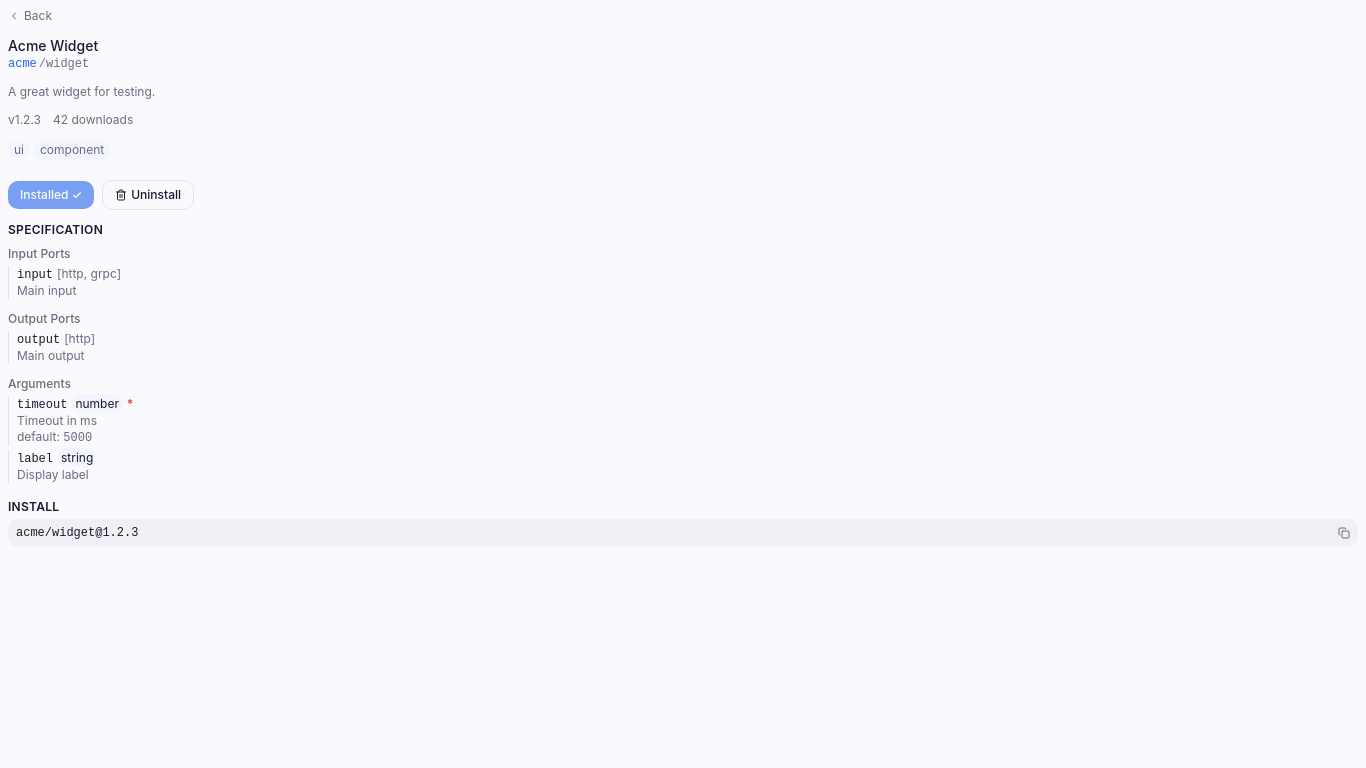
Test case: NodeDefDetailView › uninstall flow › confirm dialog mentions builtin restoration when key collides with built-in
Click the button with test id "detail-uninstall-btn": {"x": 148, "y": 195} x1=102 y1=180 x2=194 y2=210
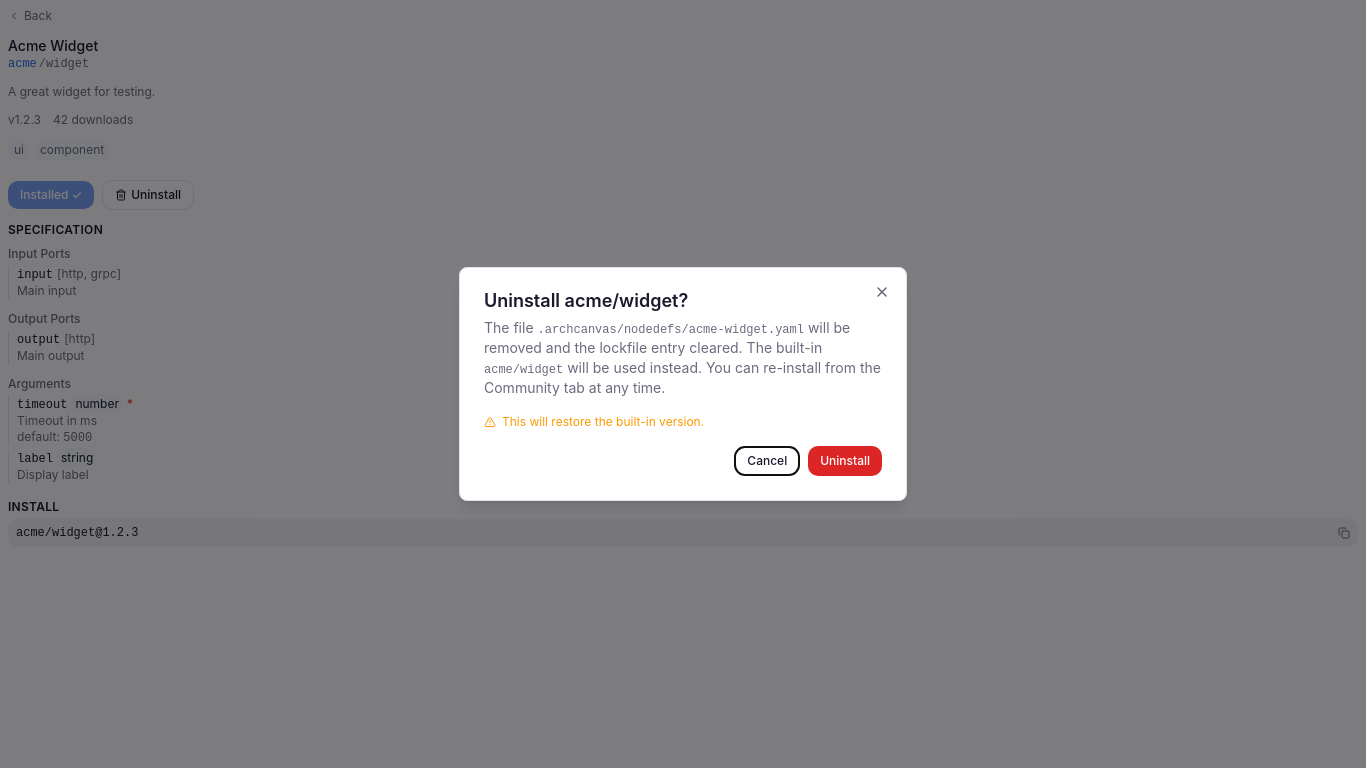
Expected: the dialog with test id "uninstall-confirm-dialog" shows "built-in", x1=747 y1=339 x2=822 y2=356
